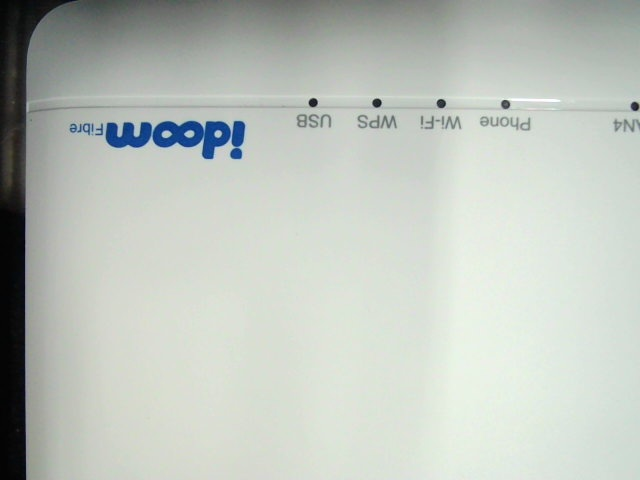BB_idoom: (57, 108, 254, 161)
